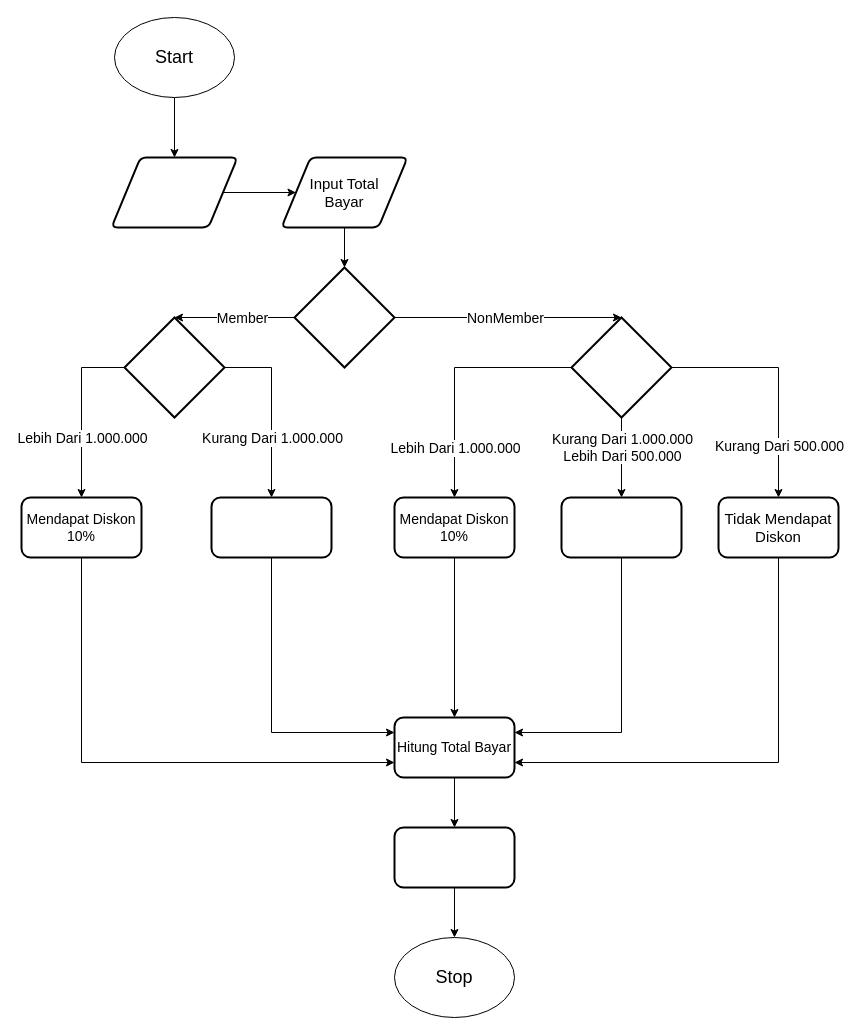
Image size: 861x1035. Some labels were removed from this diagram. Each missing label, with the centre of its shape:
Input Status Member: point (174, 192)
Mendapat Diskon 15%: point (271, 527)
Mendapat Diskon 5%: point (621, 527)
Output Total Bayar: point (454, 857)
